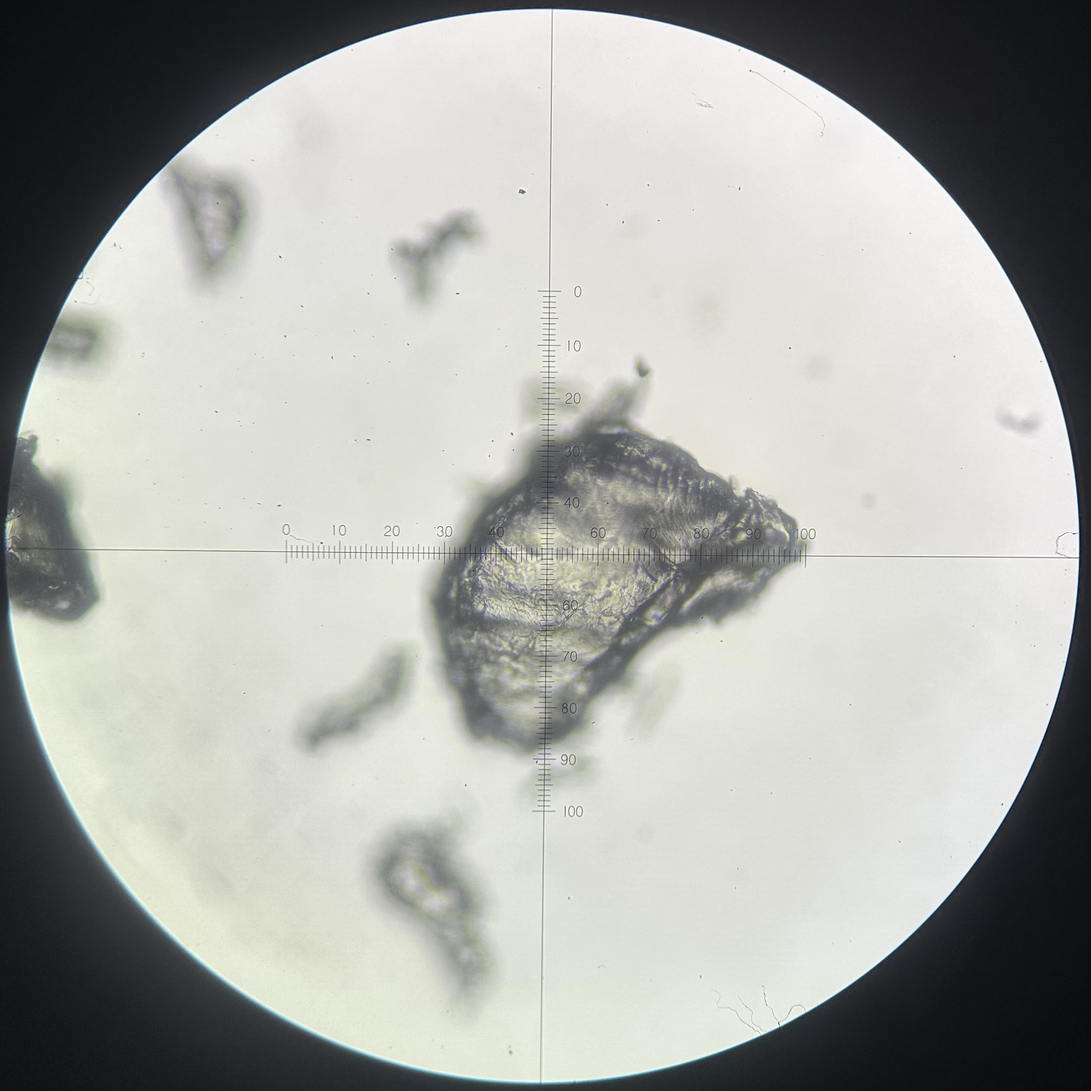microplastic: (430, 355, 810, 761), (367, 820, 500, 1006), (0, 430, 110, 624), (287, 643, 421, 754), (387, 211, 493, 321), (170, 166, 249, 275), (35, 315, 104, 370)
